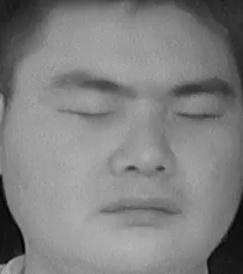blink: (63, 92, 113, 126), (176, 98, 224, 130)
mouth: (98, 189, 188, 238)
